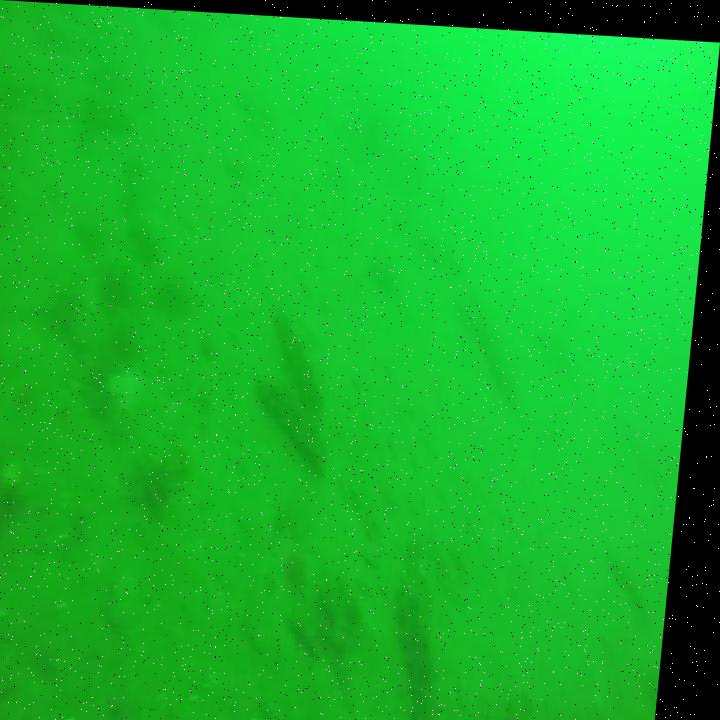holothurian: (402, 578, 467, 720), (254, 369, 330, 461), (269, 306, 337, 401)
